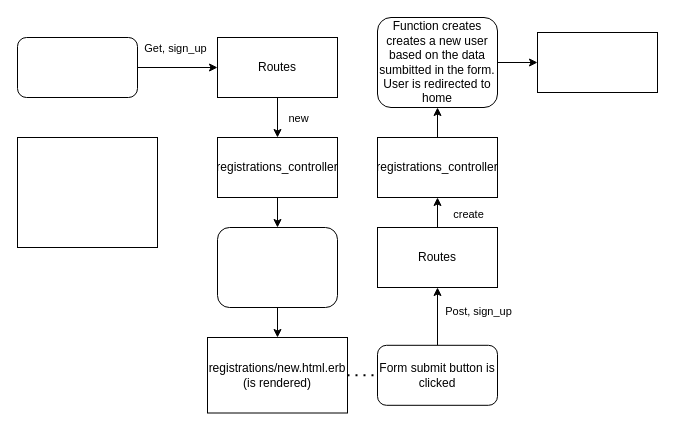
The diagram is 675 pixels wide and 431 high, and some of its shapes have lost their labels. The shapes that lost their labels are listed below. From the top down, each one's box as (x1, y1, x2, y2) in pixels, then its label:
(16, 36, 138, 98): Sign up link clicked in navbar
(536, 32, 658, 92): main/index.html.erb (is rendered)
(16, 136, 158, 248): MVC actions that take place when a user creates an account
(216, 226, 338, 308): Sets a instance variable for user based on parameters specified in user model
